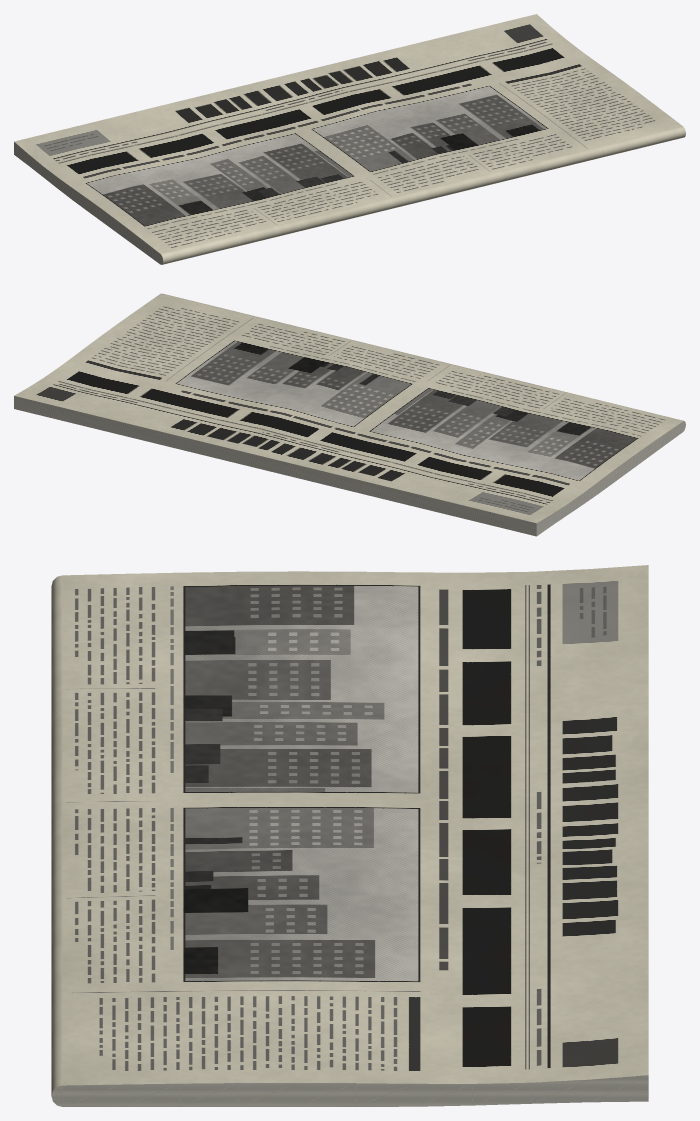
Rendered from SM_NewspaperFlat.fbx.
3 renders of one model, top to bottom at view 1: azimuth 30°, elevation 25°; view 2: azimuth 150°, elevation 25°; view 3: azimuth 270°, elevation 25°, orthographic. The views are drawn at different scales.
Visible parts, largest first — view 1: SM_NewspaperFlat; view 2: SM_NewspaperFlat; view 3: SM_NewspaperFlat.
Part boxes in pixels (box(x1,y1,x2,y2)): SM_NewspaperFlat: box(14, 14, 685, 264); SM_NewspaperFlat: box(14, 293, 685, 536); SM_NewspaperFlat: box(51, 565, 648, 1106).
Size of the model in its own units: 37.9 by 1.1 by 18.75.
